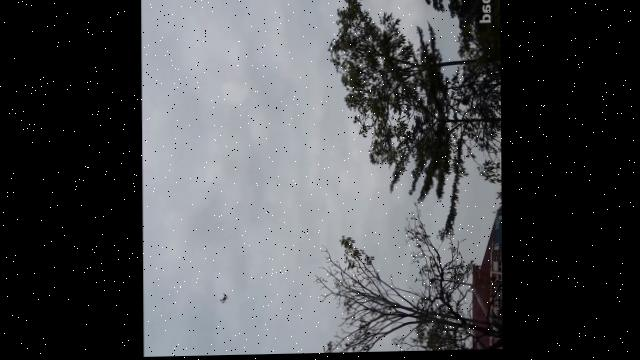drone: (216, 293, 228, 306)
